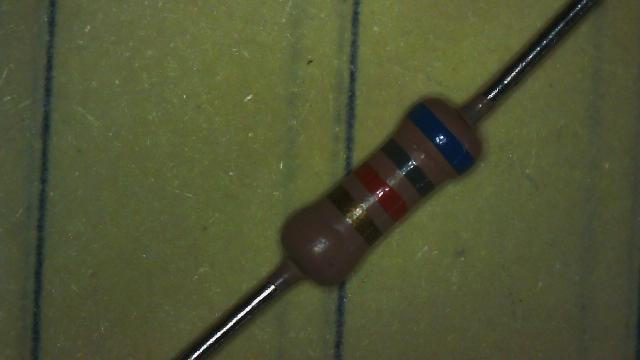blue: (406, 103, 474, 176)
gold: (329, 185, 382, 246)
grey: (380, 138, 434, 197)
orange: (355, 162, 407, 221)
resistor: (240, 64, 523, 327)
